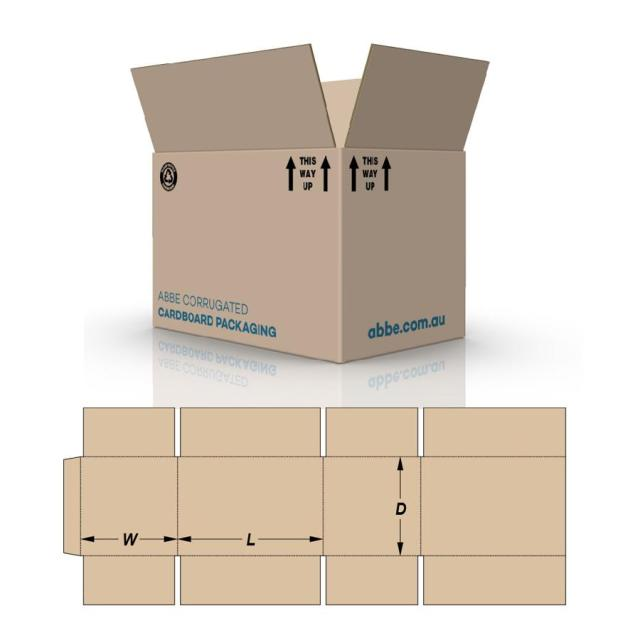Garbage: (117, 28, 498, 370)
